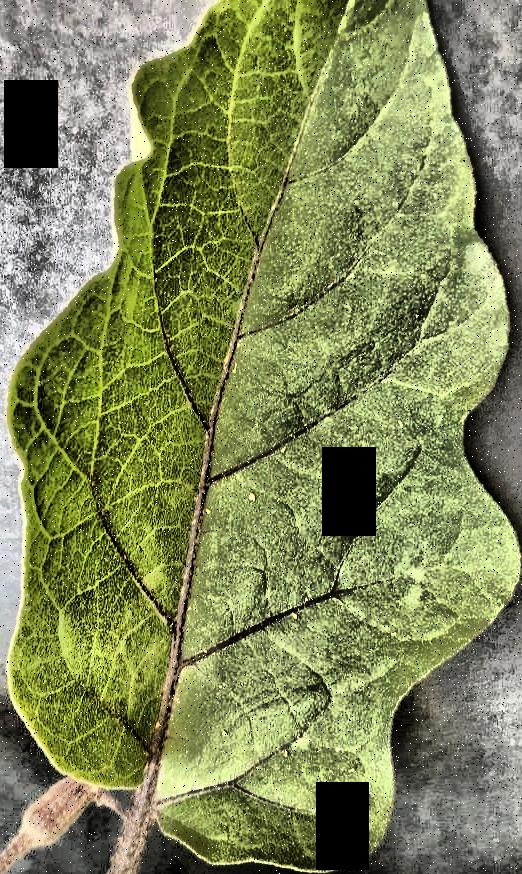HEALTHY: (1, 1, 522, 874)
